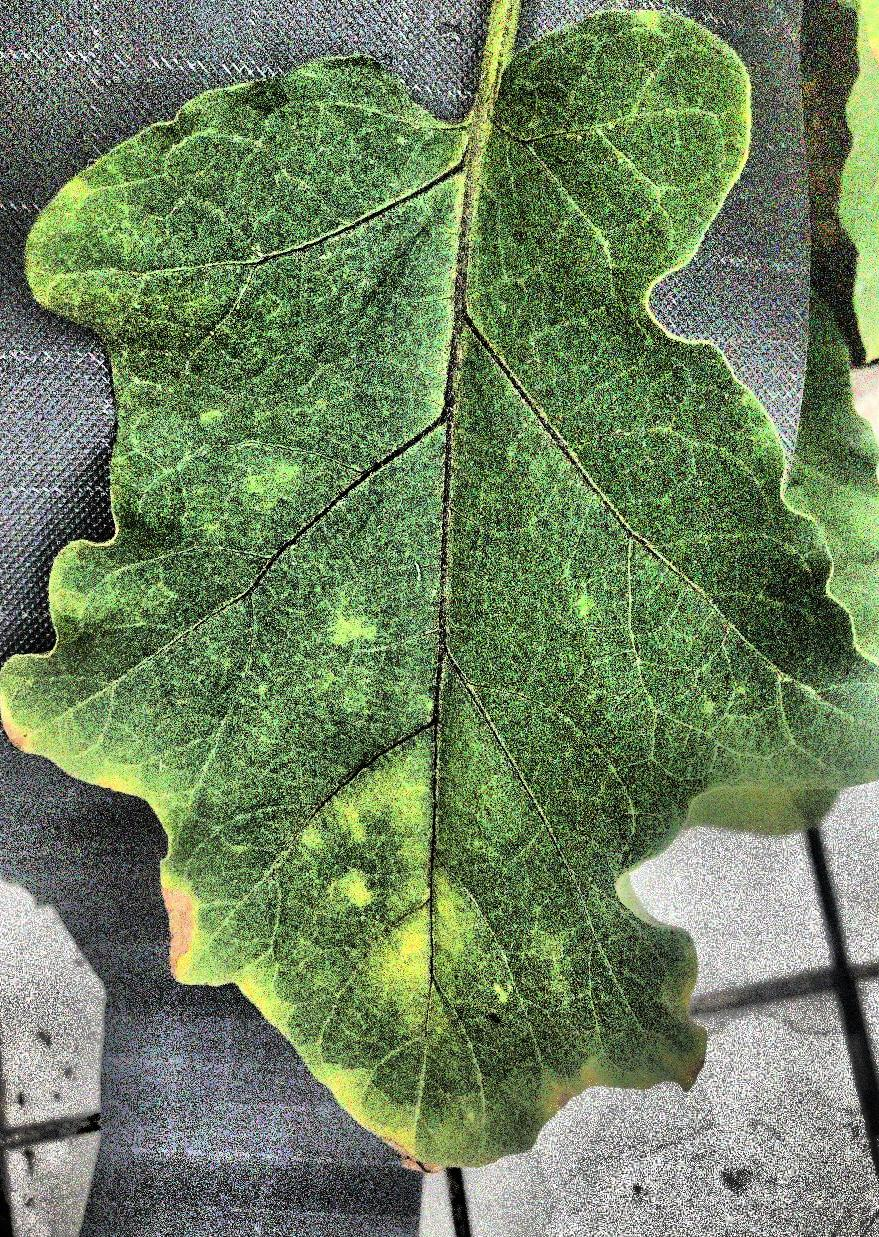Non-critical Stress: (1, 0, 879, 1237)
